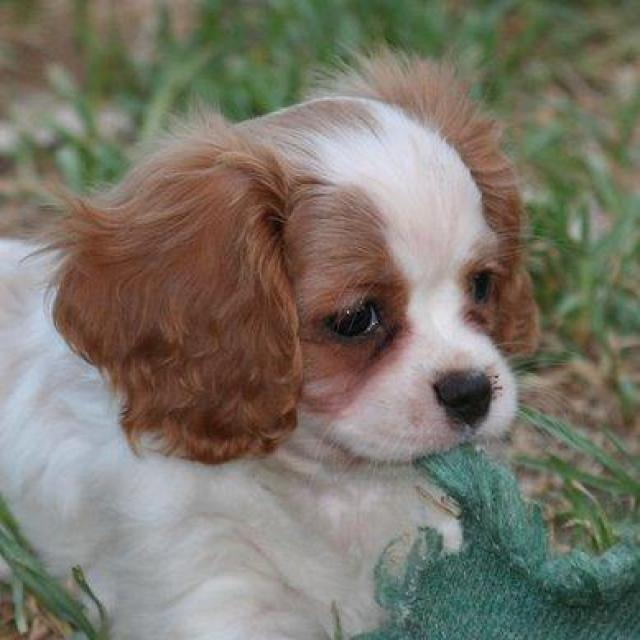blenheim_spaniel: (0, 44, 538, 638)
